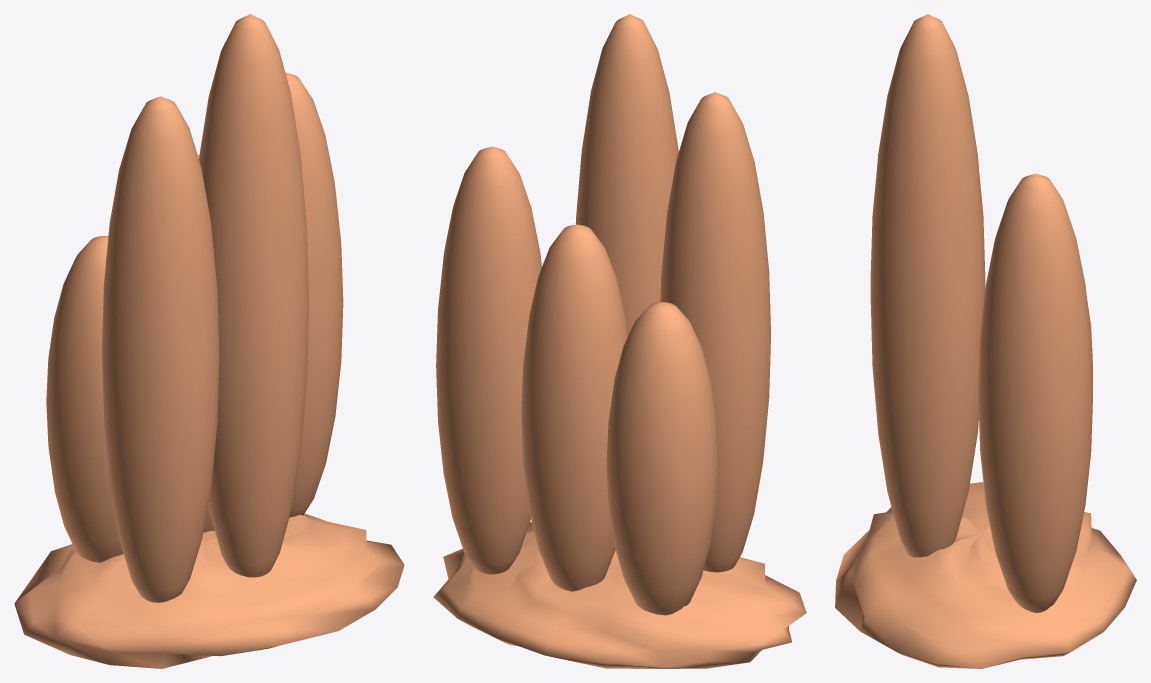
The model's file is underwater-reef-worlds-pillar-coral-1c54bd62__6996.glb.
The picture shows the model from 3 angles, left to right: view 1: azimuth 30°, elevation 25°; view 2: azimuth 150°, elevation 25°; view 3: azimuth 270°, elevation 25°; orthographic projection. The views are drawn at different scales.
Visible parts, largest first — view 1: pillar-coral; view 2: pillar-coral; view 3: pillar-coral.
Boxes of the visible parts, x1,y1,x2,y2 form: pillar-coral: (14, 14, 404, 668); pillar-coral: (433, 14, 806, 668); pillar-coral: (835, 14, 1136, 668).
Bounding box in the file's own units: 1.15 × 1.8 × 0.8409.
